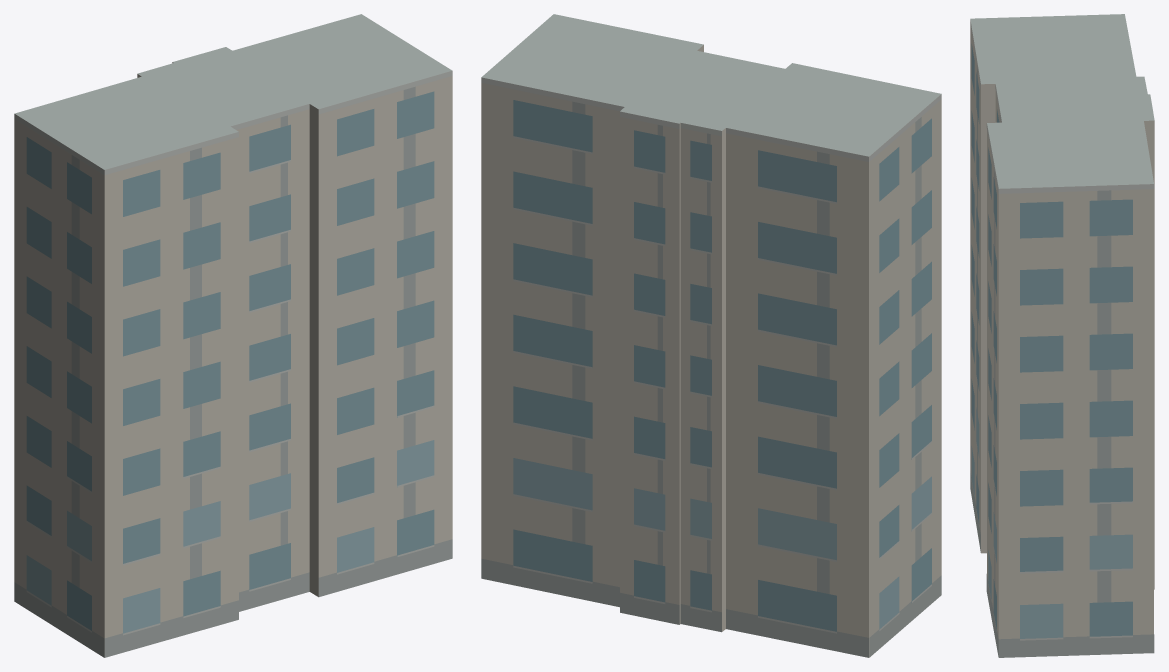
Rendered from survey-upis-32904940.glb.
3 views of the same model, side by side, from view 1: azimuth 30°, elevation 25°; view 2: azimuth 150°, elevation 25°; view 3: azimuth 270°, elevation 25° (orthographic). The views are drawn at different scales.
Visible parts, largest first — view 1: survey-upis-32904940.tmp; view 2: survey-upis-32904940.tmp; view 3: survey-upis-32904940.tmp.
Part boxes in pixels (x1=…): survey-upis-32904940.tmp: x1=14, y1=14, x2=452, y2=657; survey-upis-32904940.tmp: x1=481, y1=14, x2=941, y2=657; survey-upis-32904940.tmp: x1=970, y1=14, x2=1154, y2=657.
Bounding box in the file's own units: 17.99 × 22.5 × 8.03.
